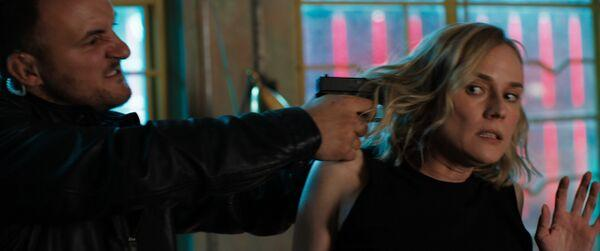Gun: (315, 71, 400, 106)
